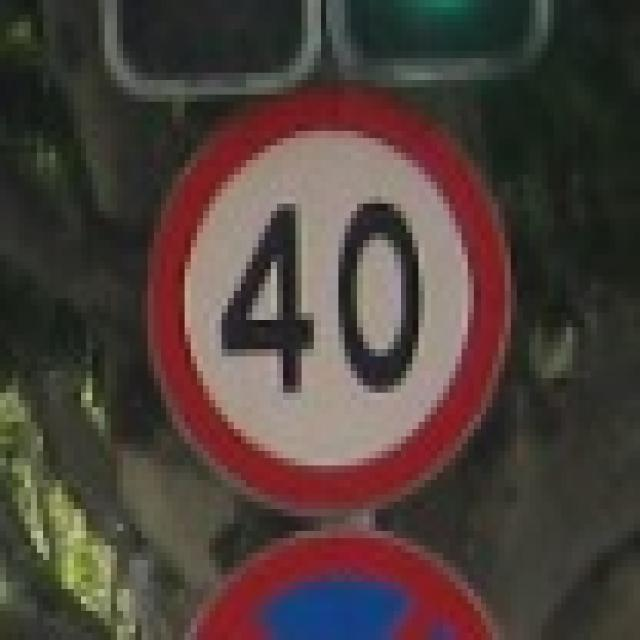Speed Limit -40-: (216, 198, 433, 398)
